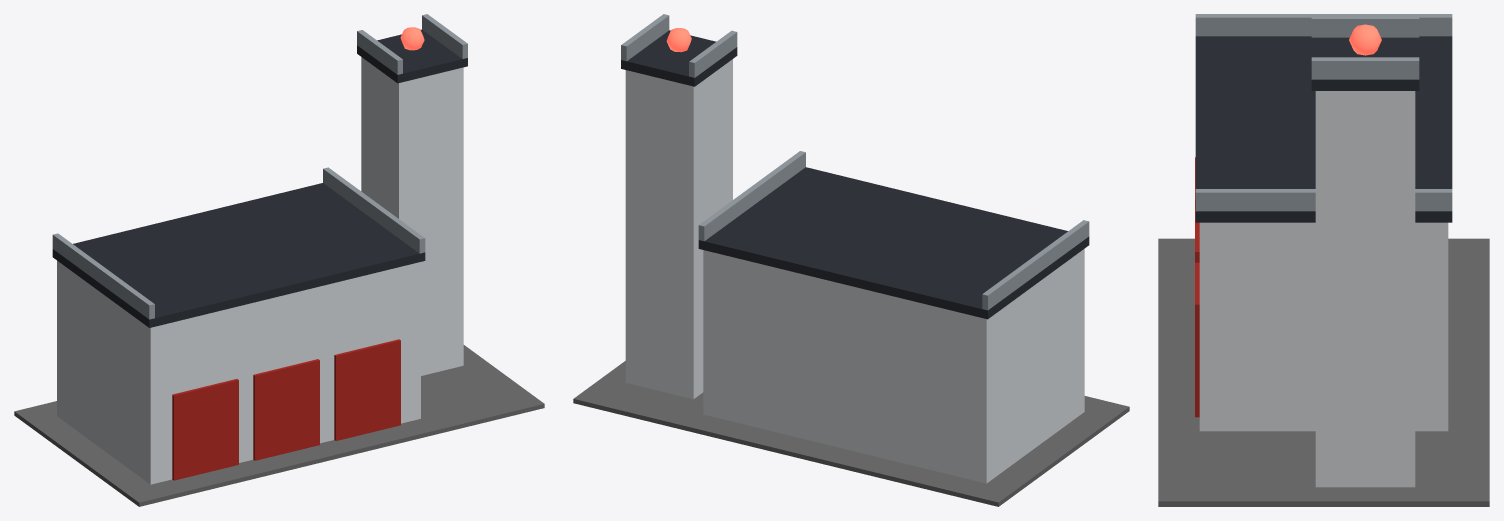
File: bld_special_fire_station_a08_lod1.glb
3 views of the same model, side by side, from view 1: azimuth 30°, elevation 25°; view 2: azimuth 150°, elevation 25°; view 3: azimuth 270°, elevation 25° (orthographic). The views are drawn at different scales.
Parts seen in each view (by area): view 1: body; view 2: body; view 3: body.
Boxes of the visible parts, box(x1,y1,x2,y2) form: body: box(14, 14, 544, 506); body: box(573, 14, 1129, 506); body: box(1158, 14, 1489, 506).
Bounding box in the file's own units: 15 × 11.9 × 8.
